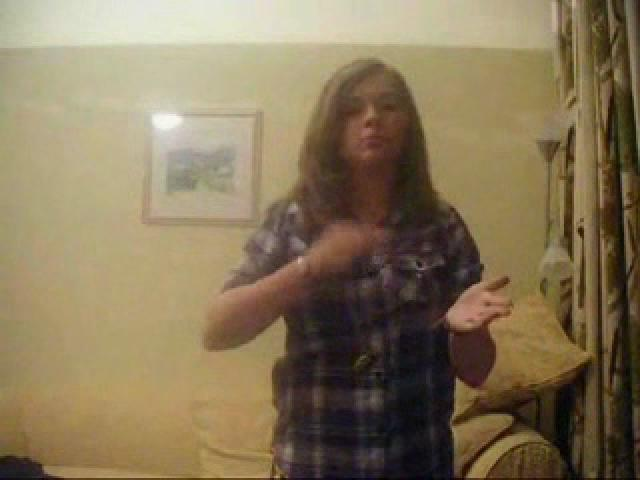F: (205, 52, 493, 480)
